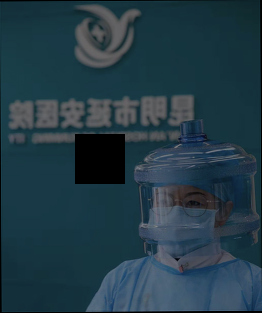with_mask: (148, 187, 219, 260)
